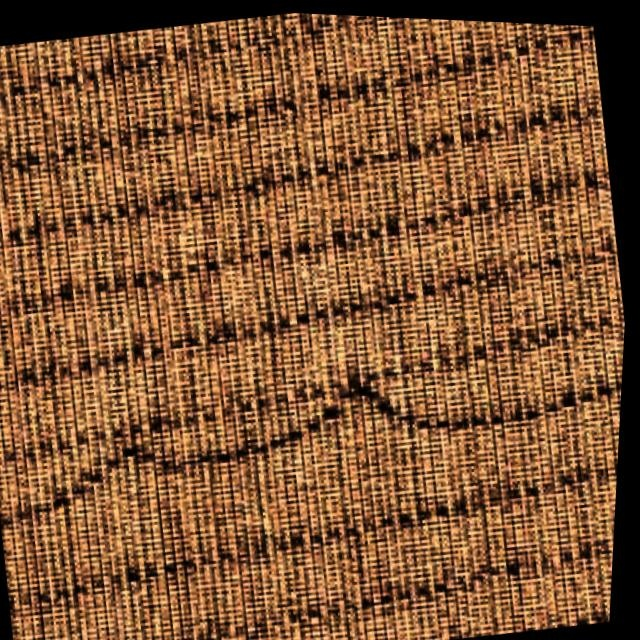Stitch: (4, 308, 554, 567)
